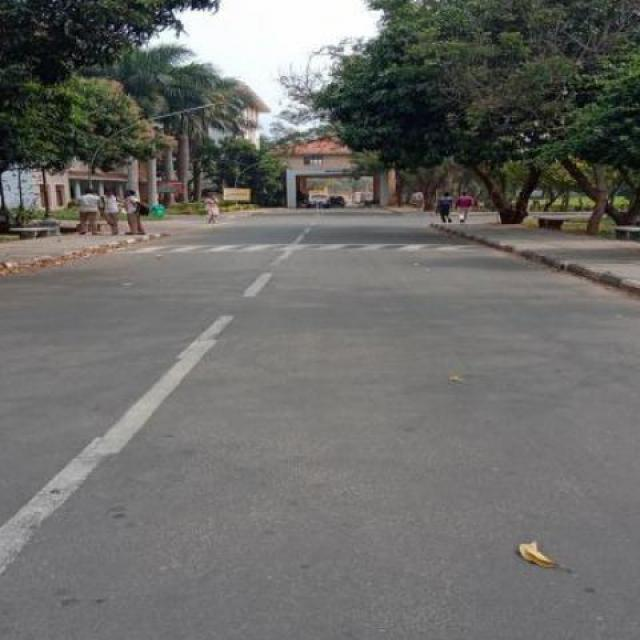Speed Bump: (108, 242, 514, 253)
